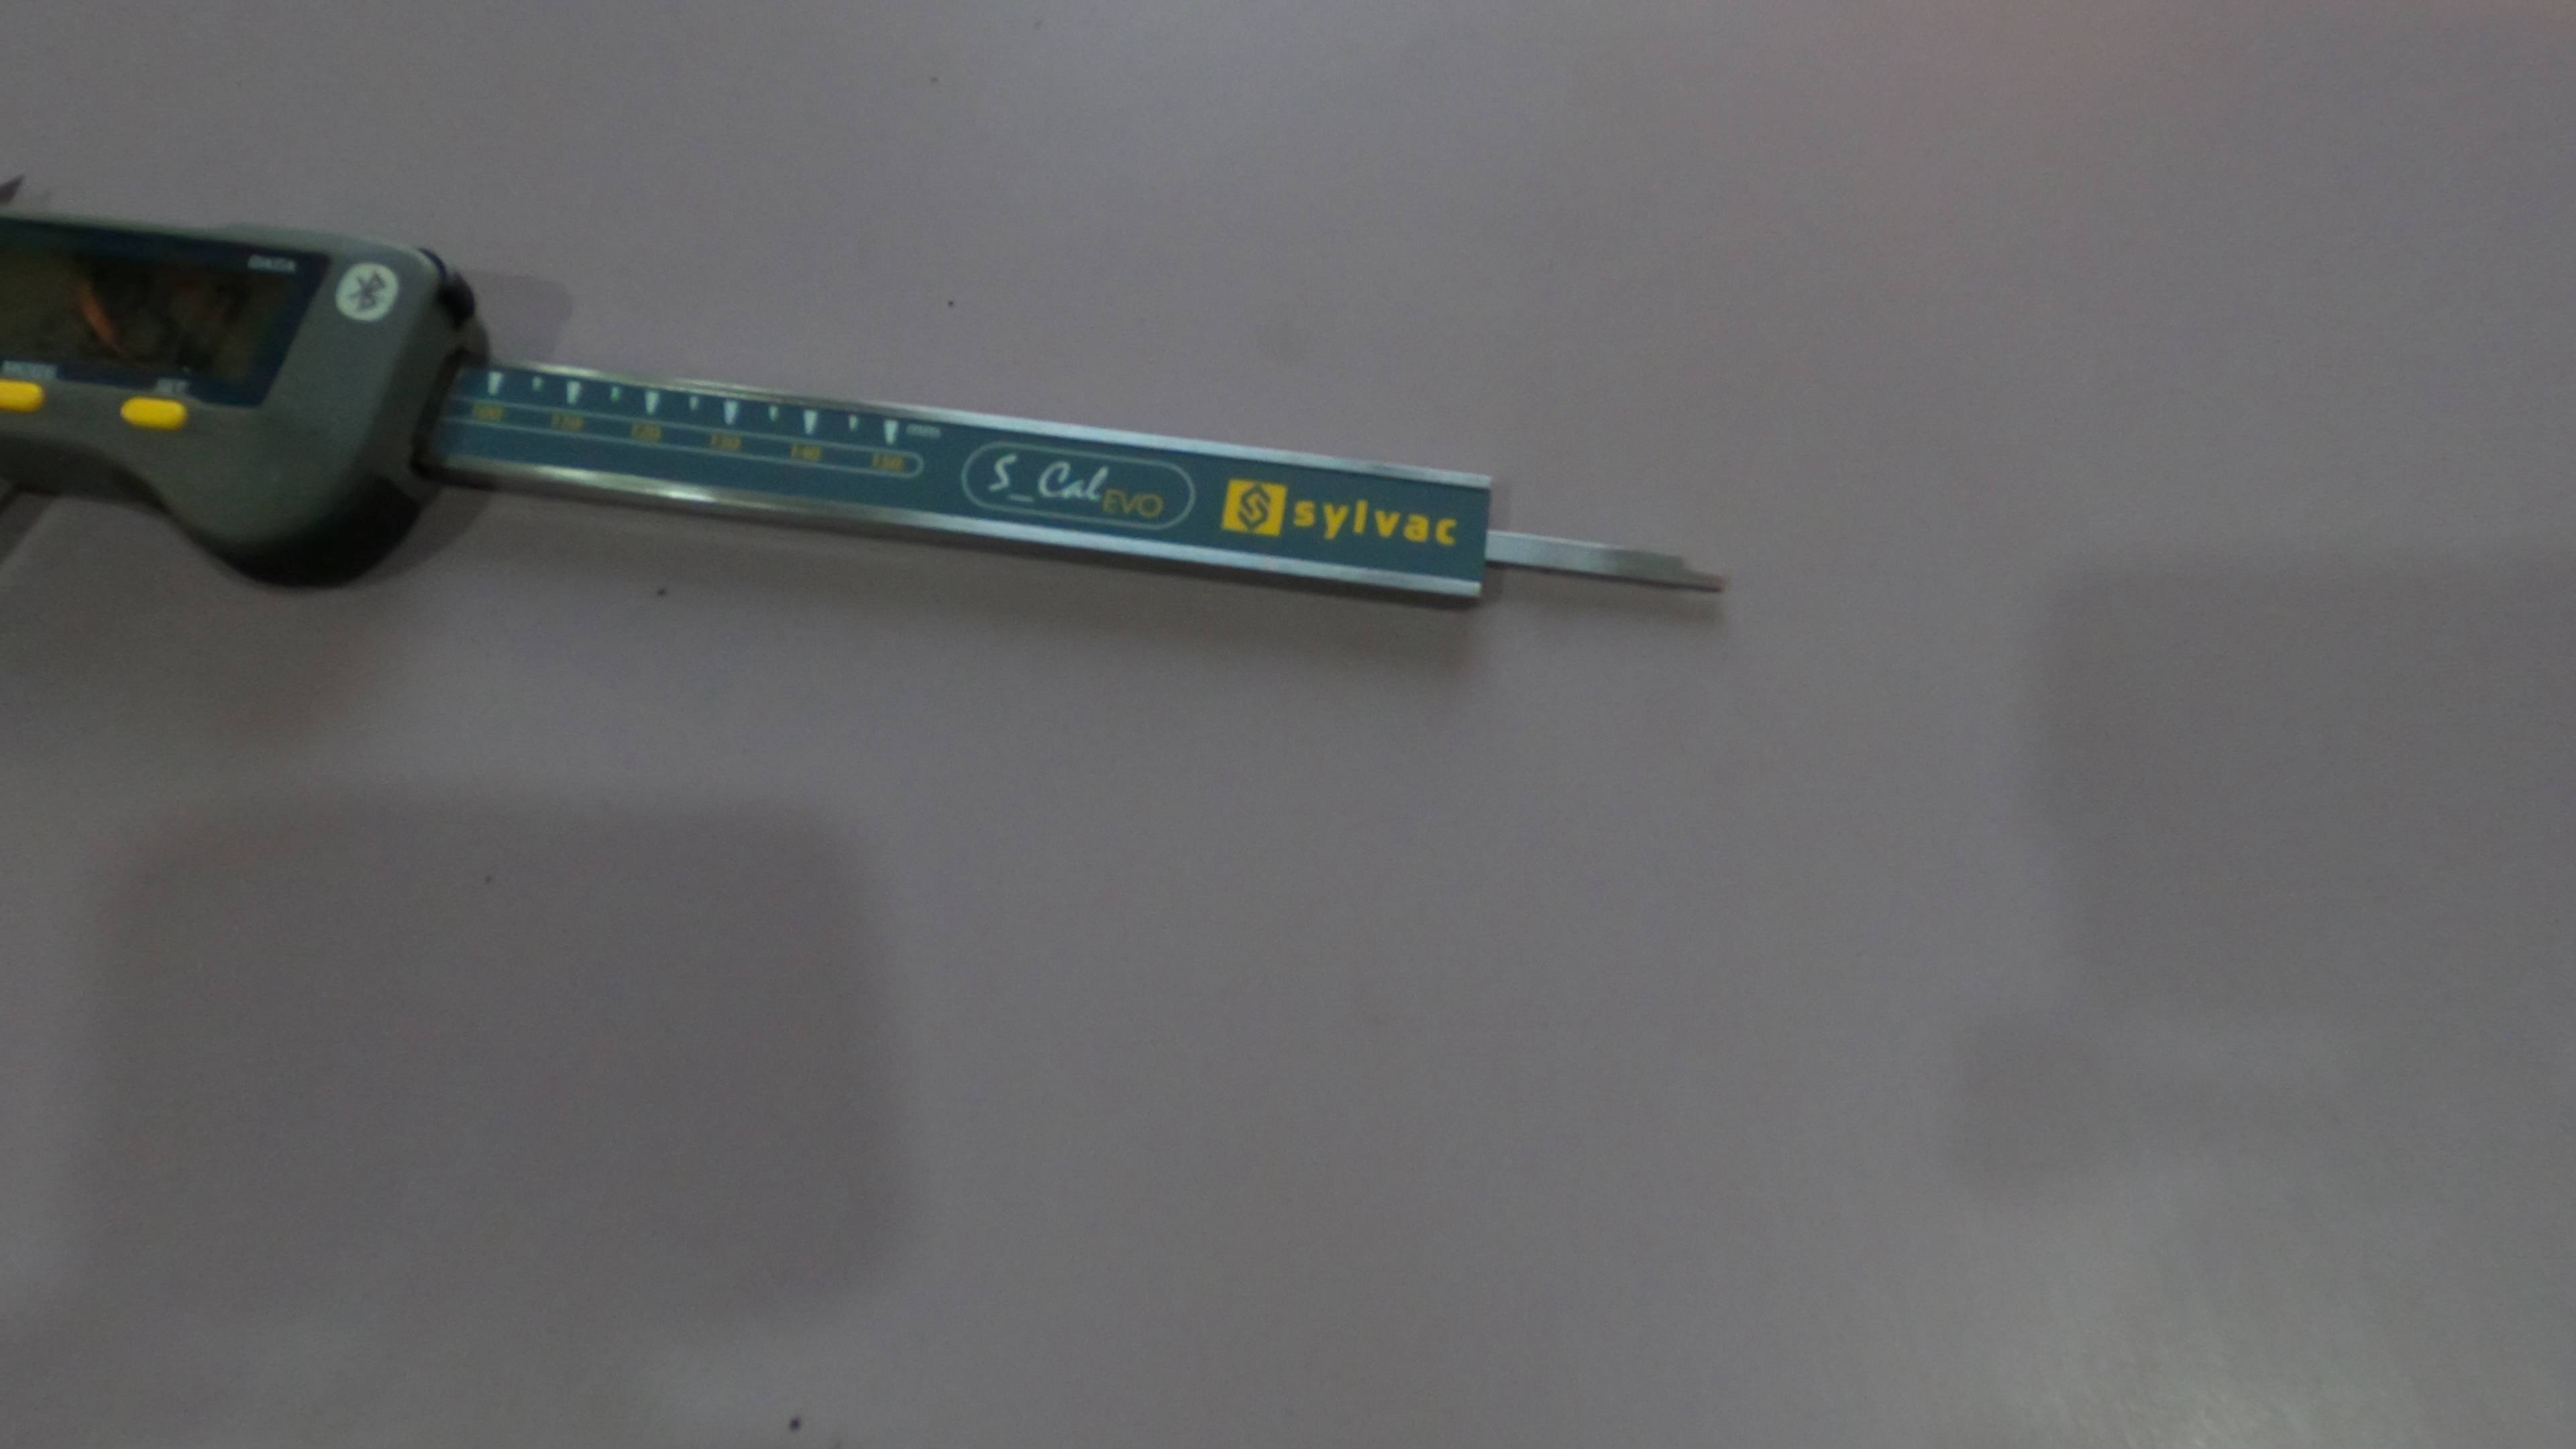vernier_caliper: (4, 165, 1737, 637)
